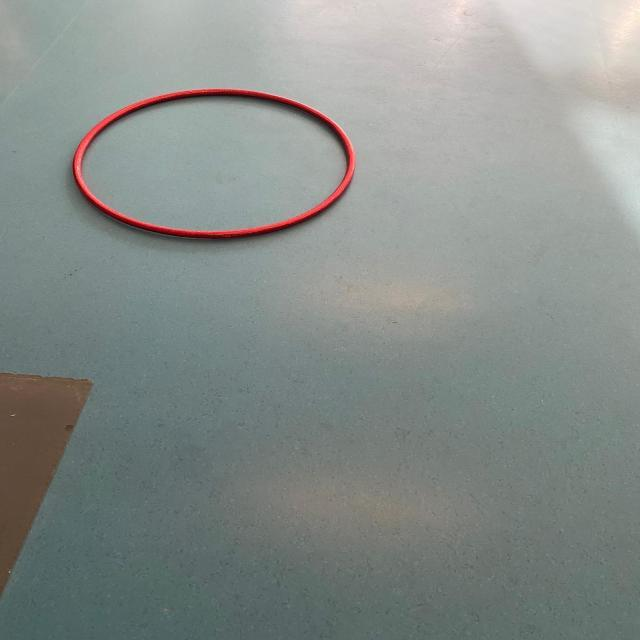Circle: (61, 81, 365, 248)
